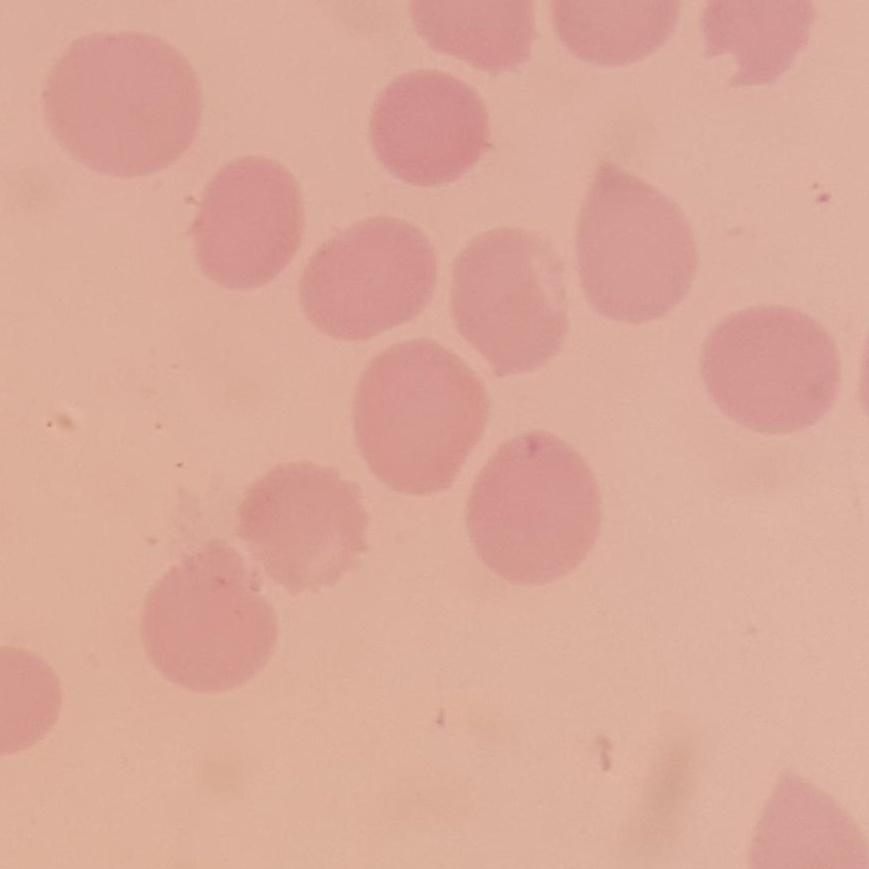Uninfected: (135, 536, 288, 691), (45, 31, 200, 178), (355, 336, 488, 495), (465, 426, 598, 585), (578, 156, 693, 325), (447, 221, 570, 373), (700, 301, 835, 436), (302, 218, 433, 341), (238, 463, 363, 591), (190, 156, 300, 291), (370, 73, 488, 184)
